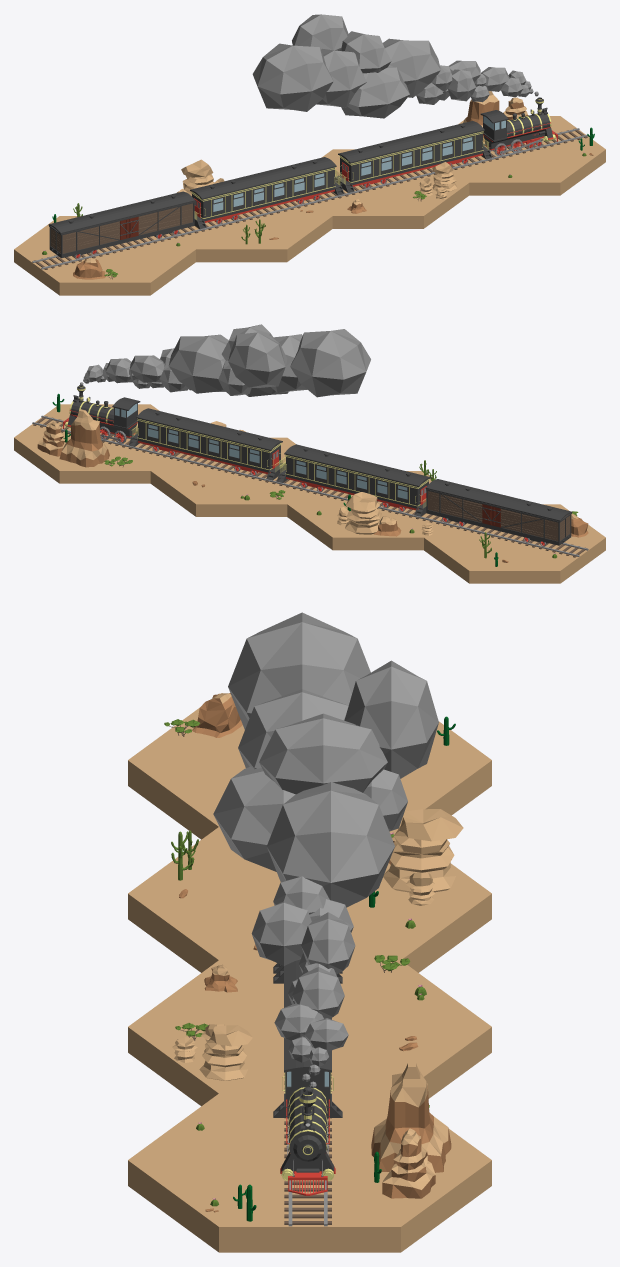
The model's file is Tile_17.fbx.
The picture shows the model from 3 angles, top to bottom: view 1: azimuth 30°, elevation 25°; view 2: azimuth 150°, elevation 25°; view 3: azimuth 270°, elevation 25°; orthographic projection. The views are drawn at different scales.
Visible parts, largest first — view 1: Tile_17, Tile_17_Smoke, Tile_17_Freight_wagon, Tile_17_Locomotive; view 2: Tile_17, Tile_17_Smoke, Tile_17_Freight_wagon, Tile_17_Locomotive; view 3: Tile_17, Tile_17_Smoke, Tile_17_Locomotive.
Part boxes in pixels (x1,y1,x2,y2): Tile_17: [14, 91, 605, 295]; Tile_17_Smoke: [252, 14, 538, 118]; Tile_17_Freight_wagon: [48, 191, 195, 258]; Tile_17_Locomotive: [480, 97, 557, 156]; Tile_17: [14, 393, 605, 583]; Tile_17_Smoke: [80, 324, 370, 397]; Tile_17_Freight_wagon: [425, 479, 572, 546]; Tile_17_Locomotive: [63, 385, 140, 443]; Tile_17: [128, 693, 491, 1252]; Tile_17_Smoke: [213, 612, 438, 1088]; Tile_17_Locomotive: [280, 1053, 335, 1195].
Bounding box in the file's own units: 8029 × 2318 × 2459.
